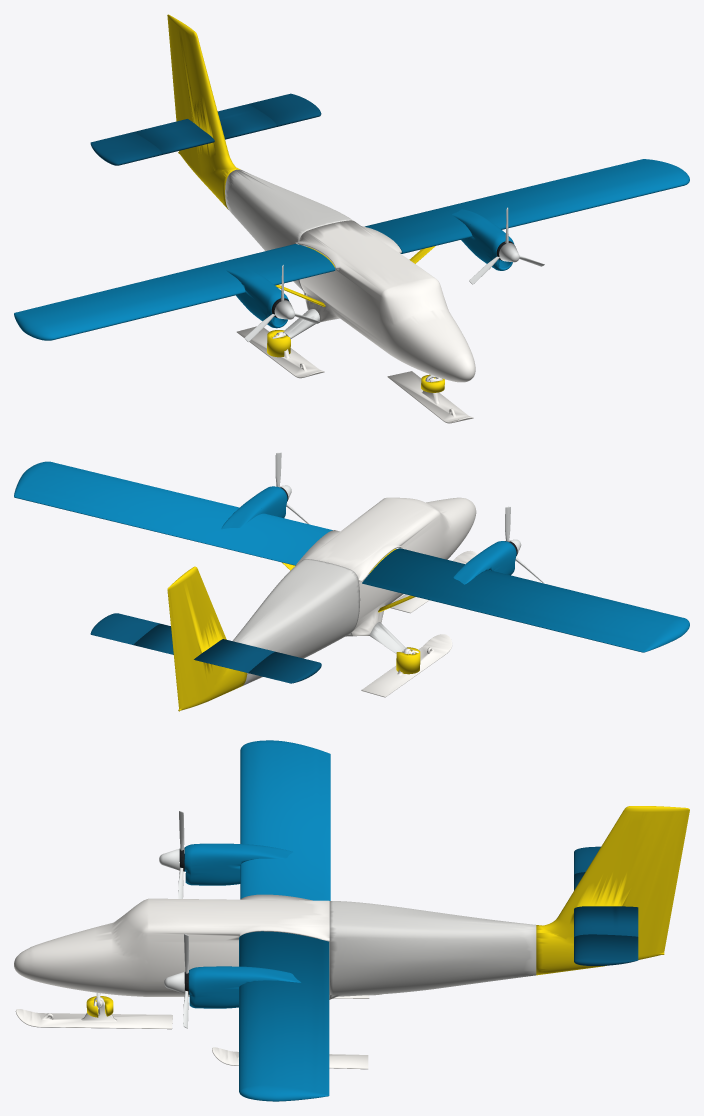
File: dhc6_skis_painted_training.glb
3 renders of one model, top to bottom at view 1: azimuth 30°, elevation 25°; view 2: azimuth 150°, elevation 25°; view 3: azimuth 270°, elevation 25°, orthographic. The views are drawn at different scales.
Visible parts, largest first — view 1: Fus_Forward, Wing_Right, Wing_Left, Fus_Aft, Fus_Mid, Engine_Right, Engine_Left, Elevator_1_Right, Elevator_2_Right, Ski_Nose, Elevator_2_Left, Elevator_1_Left (+1 smaller); view 2: Wing_Right, Wing_Left, Fus_Forward, Fus_Mid, Fus_Aft, Ski_Rear_Right, Elevator_1_Right, Elevator_2_Right, Engine_Right, Engine_Left, Elevator_2_Left, Elevator_1_Left (+3 smaller); view 3: Fus_Forward, Fus_Mid, Wing_Left, Wing_Right, Fus_Aft, Engine_Right, Engine_Left, Ski_Nose, Elevator_2_Left, Elevator_1_Left, Ski_Rear_Left.
Part boxes in pixels (x1=…): Fus_Forward: x1=295, y1=220, x2=475, y2=382; Wing_Right: x1=14, y1=244, x2=335, y2=340; Wing_Left: x1=365, y1=159, x2=689, y2=253; Fus_Aft: x1=167, y1=14, x2=240, y2=209; Fus_Mid: x1=225, y1=169, x2=353, y2=295; Engine_Right: x1=226, y1=268, x2=288, y2=328; Engine_Left: x1=452, y1=209, x2=514, y2=270; Elevator_1_Right: x1=134, y1=119, x2=214, y2=154; Elevator_2_Right: x1=90, y1=132, x2=161, y2=165; Ski_Nose: x1=387, y1=371, x2=473, y2=423; Elevator_2_Left: x1=248, y1=93, x2=321, y2=126; Elevator_1_Left: x1=217, y1=104, x2=276, y2=139; Wing_Right: x1=362, y1=548, x2=689, y2=652; Wing_Left: x1=14, y1=461, x2=332, y2=565; Fus_Forward: x1=296, y1=497, x2=476, y2=636; Fus_Mid: x1=232, y1=559, x2=360, y2=685; Fus_Aft: x1=167, y1=566, x2=247, y2=711; Ski_Rear_Right: x1=361, y1=634, x2=452, y2=697; Elevator_1_Right: x1=194, y1=639, x2=275, y2=672; Elevator_2_Right: x1=248, y1=652, x2=321, y2=683; Engine_Right: x1=453, y1=541, x2=516, y2=584; Engine_Left: x1=221, y1=486, x2=287, y2=529; Elevator_2_Left: x1=90, y1=613, x2=160, y2=644; Elevator_1_Left: x1=133, y1=624, x2=173, y2=654; Fus_Forward: x1=14, y1=894, x2=329, y2=999; Fus_Mid: x1=329, y1=901, x2=536, y2=999; Wing_Left: x1=239, y1=931, x2=329, y2=1101; Wing_Right: x1=240, y1=740, x2=330, y2=900; Fus_Aft: x1=536, y1=806, x2=689, y2=975; Engine_Right: x1=184, y1=843, x2=292, y2=885; Engine_Left: x1=188, y1=966, x2=300, y2=1008; Ski_Nose: x1=15, y1=997, x2=172, y2=1029; Elevator_2_Left: x1=574, y1=934, x2=638, y2=965; Elevator_1_Left: x1=574, y1=906, x2=638, y2=937; Ski_Rear_Left: x1=212, y1=1047, x2=368, y2=1069.
Bounding box in the file's own units: 457 × 132 × 364.
